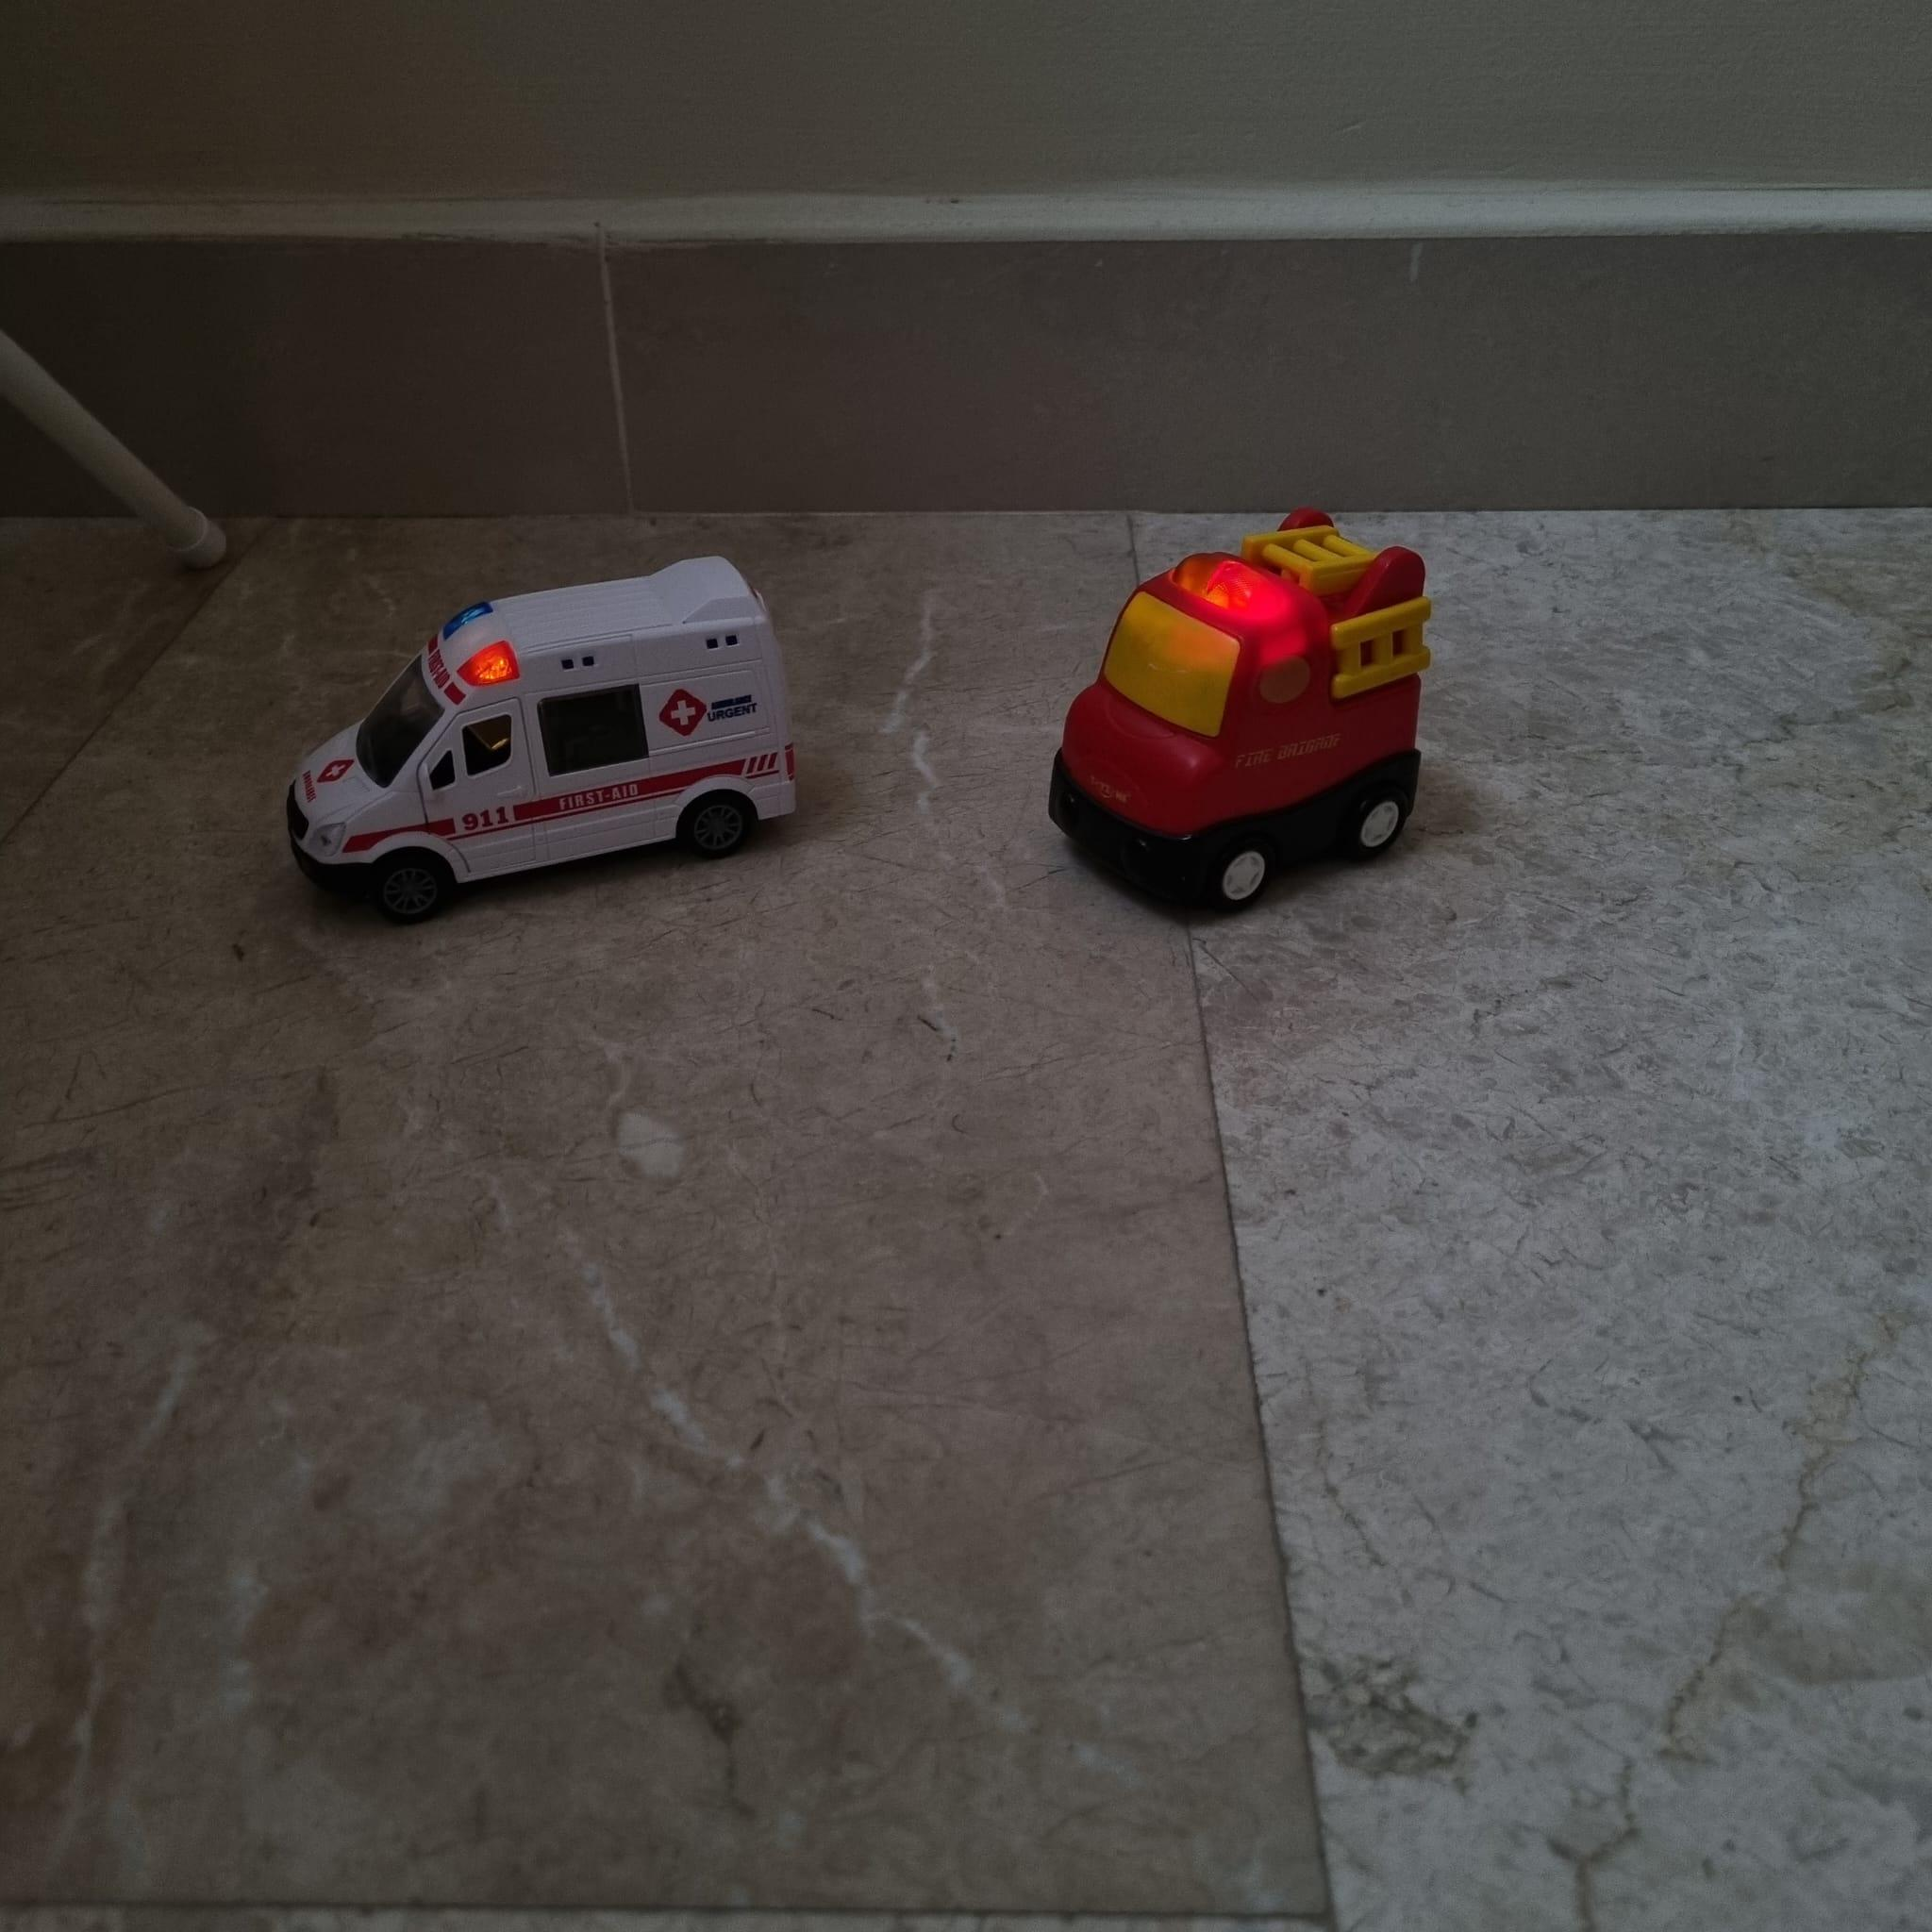ambulance_on: (281, 554, 801, 929)
firetruck_on: (1046, 506, 1431, 924)
